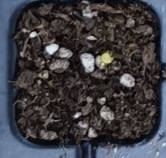pepper seed: (41, 18, 157, 83)
